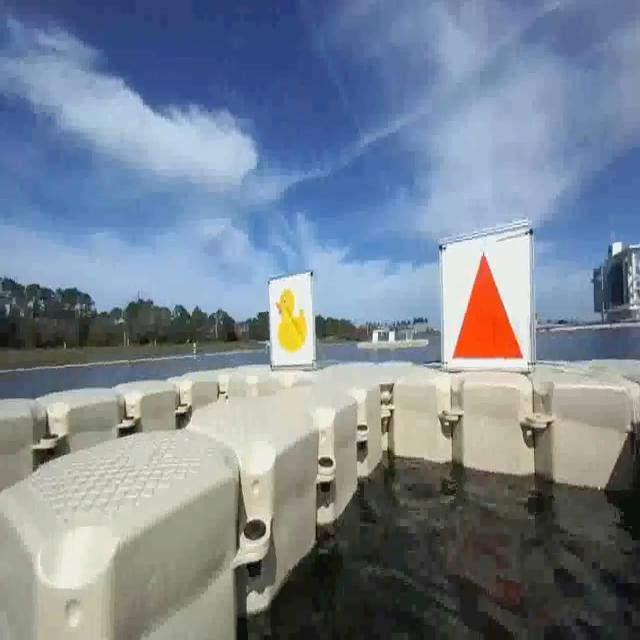red-dot: (442, 242, 530, 374)
yellow-duck: (274, 285, 308, 352)
